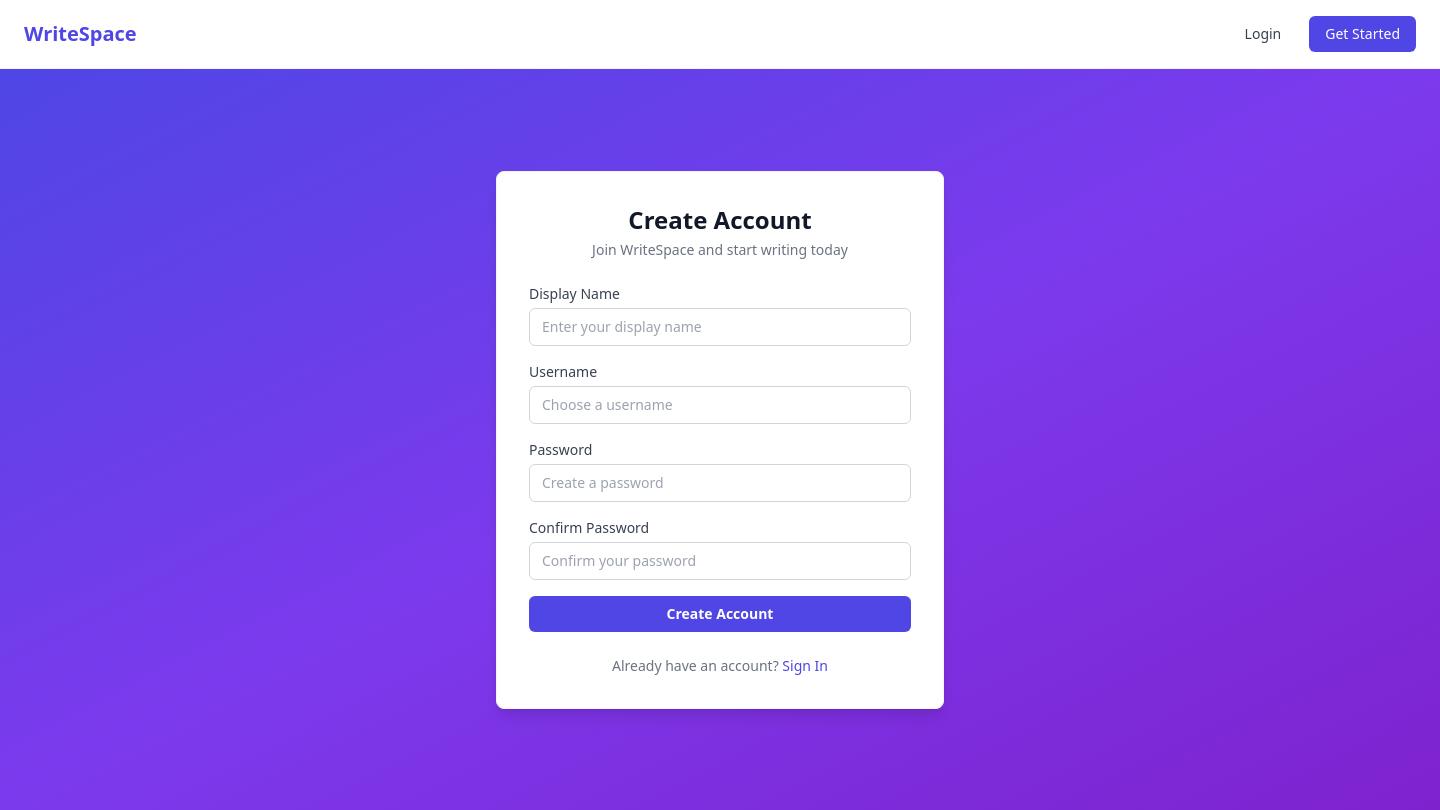
App routing › navigation between pages › navigates from register page to login page
Click the link "Sign In": (805, 665) [782,656,828,674]
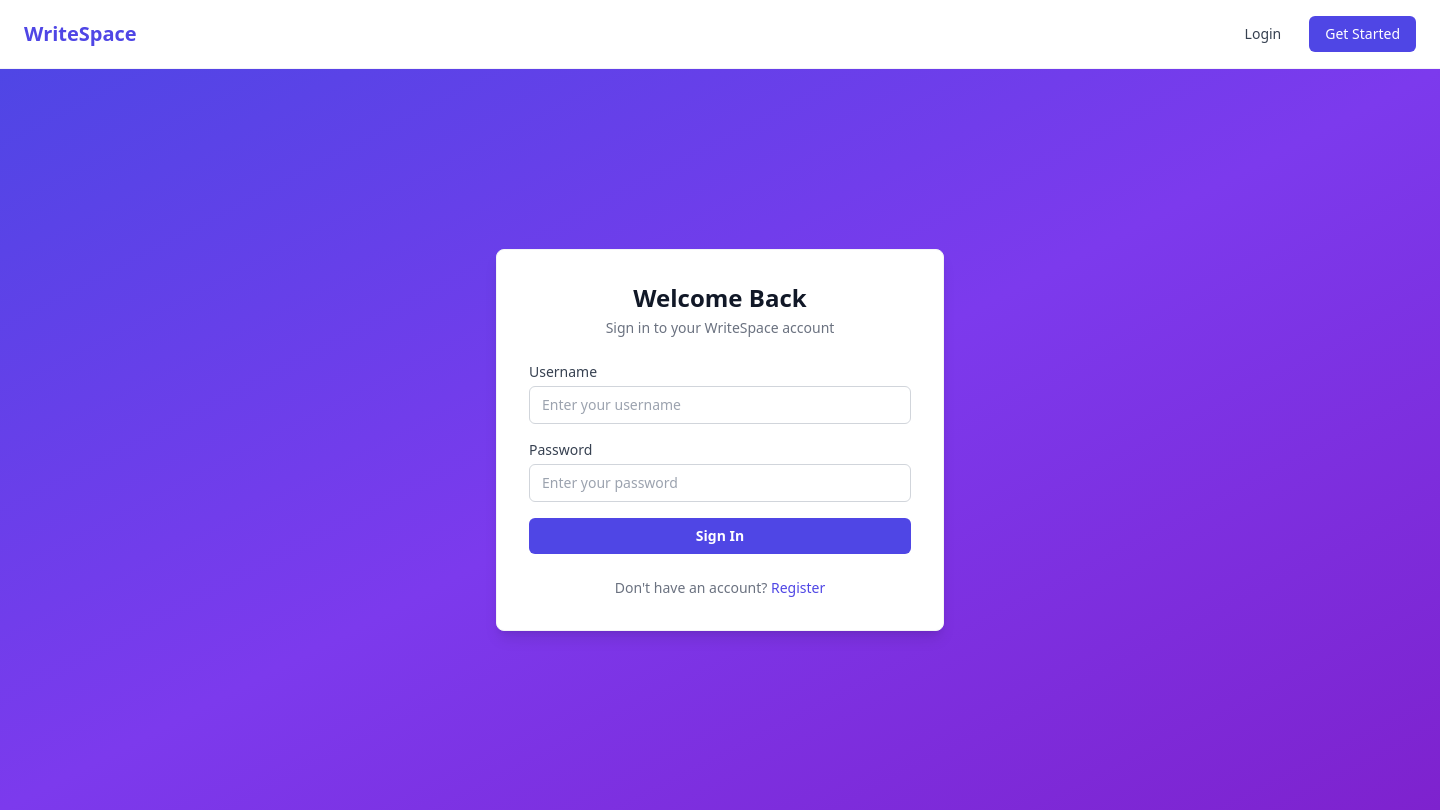
Expected: the heading "Welcome Back" is shown, [633,280,807,314]
